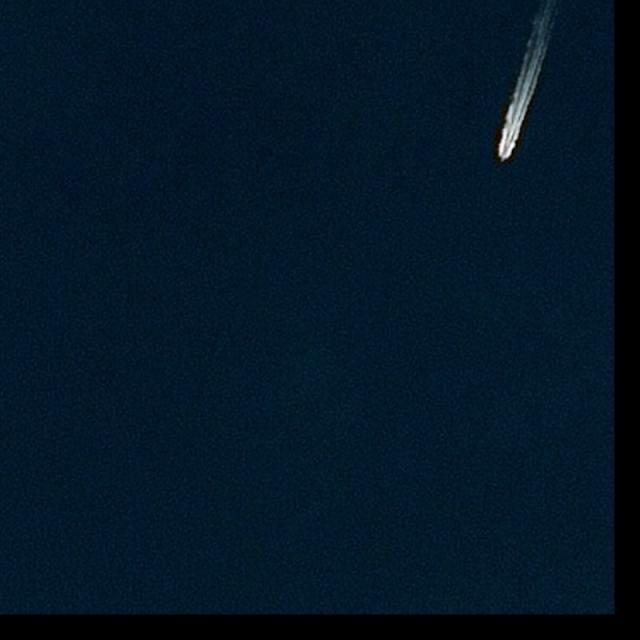ship: (500, 146, 510, 162)
